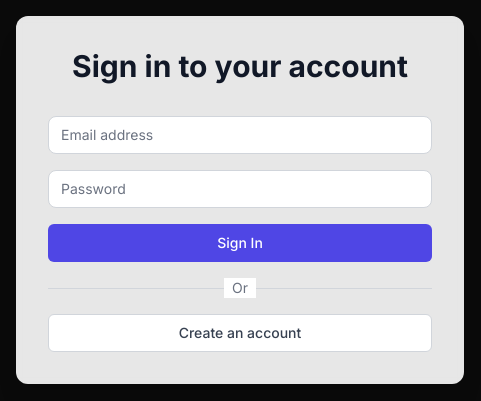
Test: LoginPage › Form Submission › disables form during submission
The width and height of the screenshot is (481, 401).
Type "test@example.com" into the field with placeholder "Email address" at {"x": 240, "y": 135}, box [48,116,432,154]
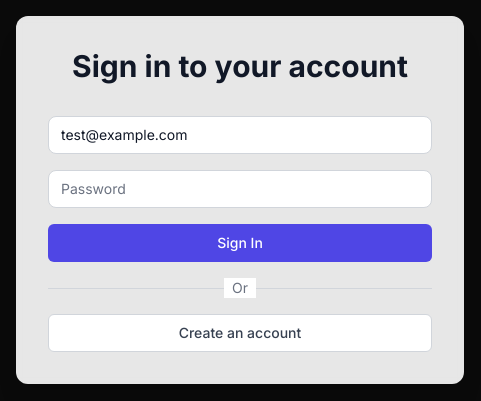
Type "Password123!" into the password field with placeholder "Password" at {"x": 240, "y": 189}, box [48,170,432,208]
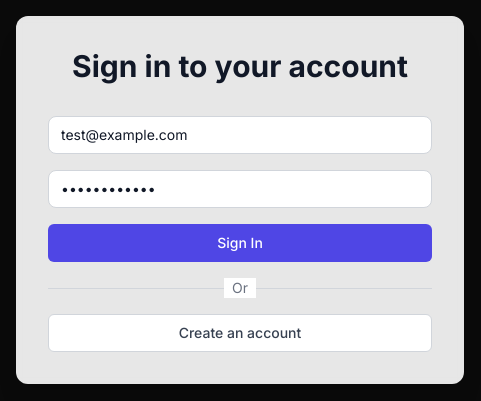
Click the button "Sign In" at {"x": 240, "y": 243}, box [48,224,432,262]
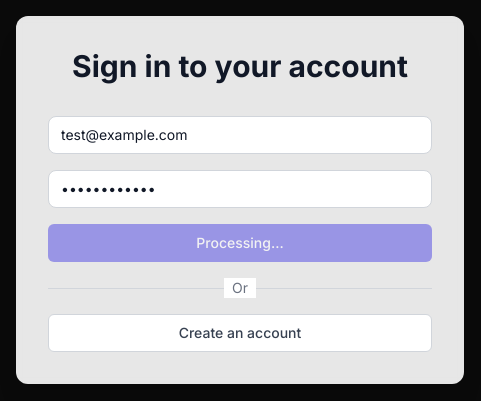
Expected: the field with placeholder "Email address" is disabled, [48,116,432,154]
Now the button named "sign in" is disabled, box [48,224,432,262]
